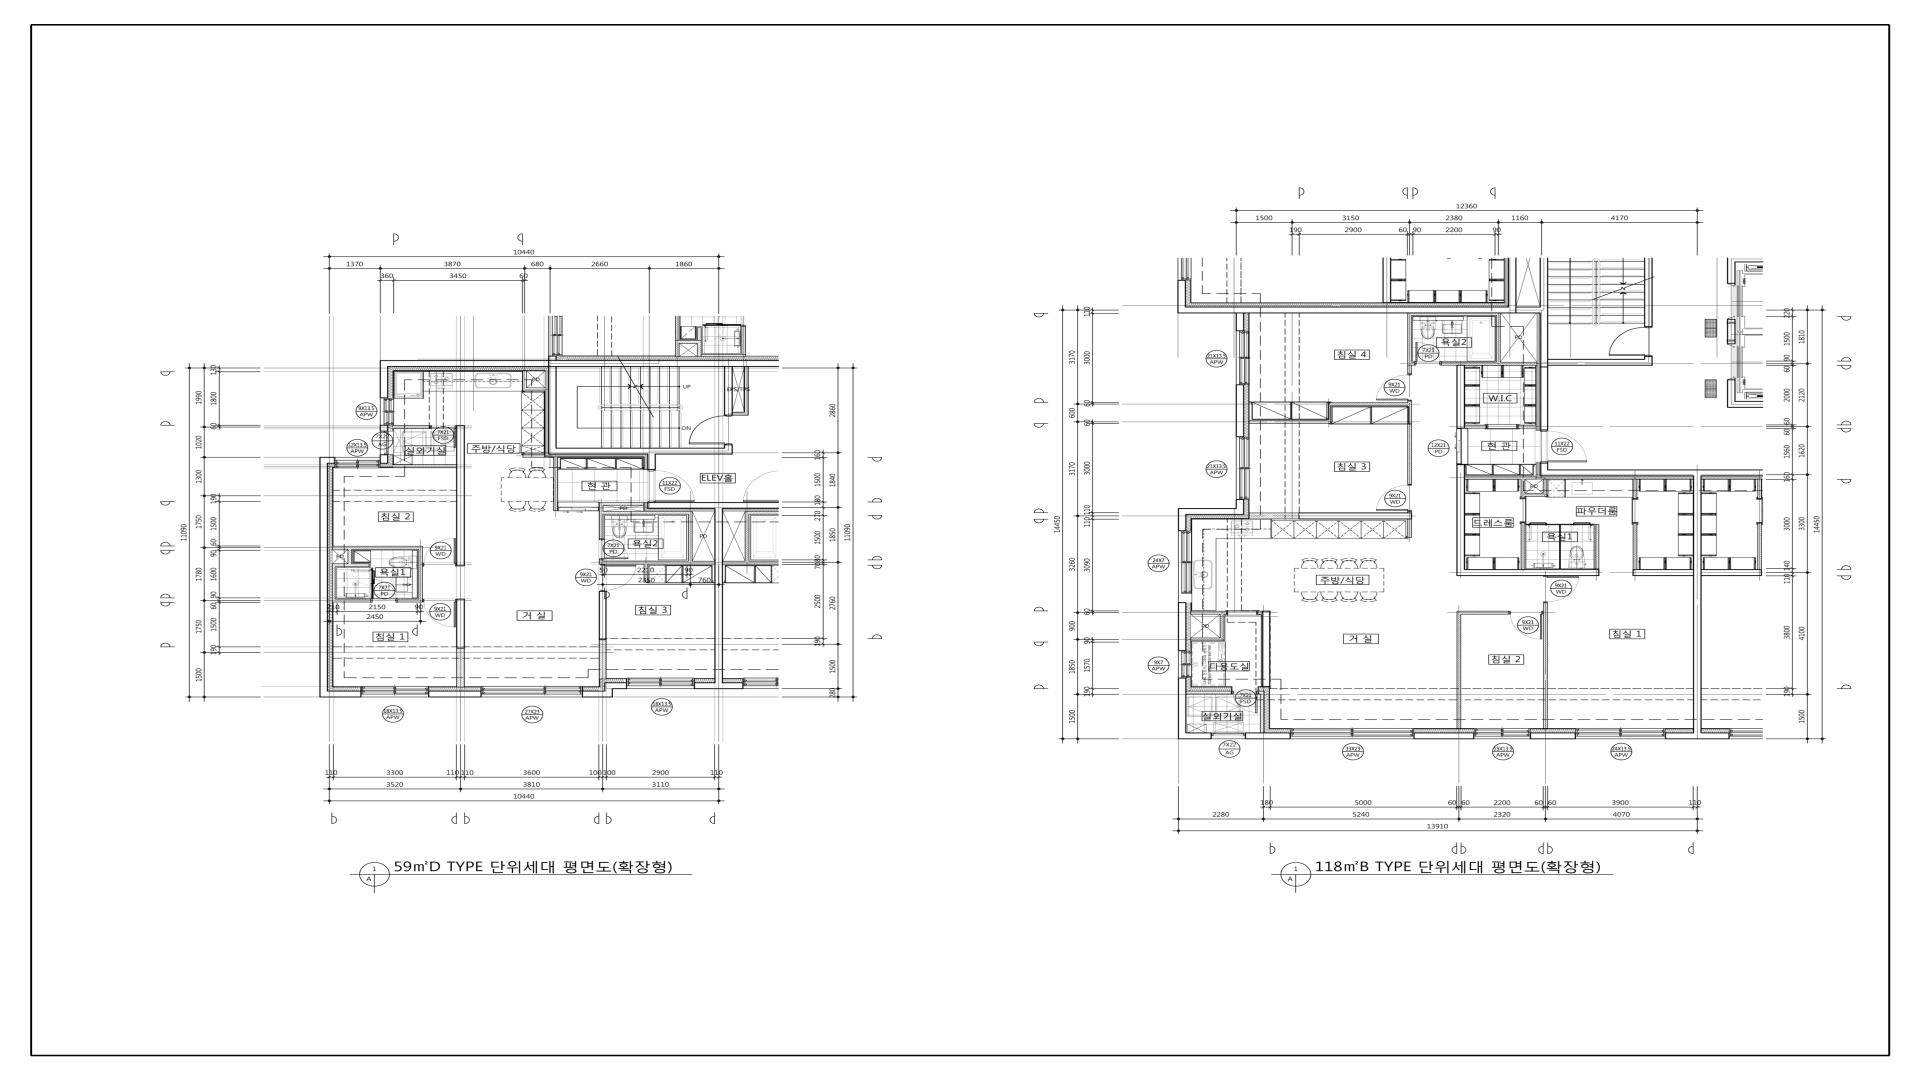door: (648, 470, 695, 502), (1546, 431, 1587, 462), (689, 416, 732, 445), (1608, 327, 1649, 357), (599, 564, 636, 592), (422, 538, 456, 566), (423, 599, 456, 627), (1375, 485, 1410, 511), (1376, 374, 1410, 400), (1545, 577, 1580, 601), (1510, 613, 1542, 639), (371, 579, 398, 603), (599, 538, 628, 560), (430, 425, 456, 448), (1415, 342, 1440, 364), (1232, 693, 1257, 714), (1529, 522, 1549, 542), (1571, 523, 1591, 542), (1456, 428, 1462, 464), (558, 507, 598, 511), (1486, 424, 1518, 429), (1227, 610, 1258, 615), (1632, 499, 1638, 523), (1520, 498, 1526, 522)
wall: (1665, 476, 1702, 739), (1540, 463, 1763, 476), (1178, 499, 1244, 531), (319, 463, 328, 691), (1177, 307, 1516, 313), (1178, 678, 1211, 739), (548, 444, 733, 454), (548, 360, 779, 367), (714, 509, 723, 682), (456, 425, 465, 566), (380, 360, 548, 367), (1548, 356, 1653, 366), (1456, 569, 1600, 576), (1727, 380, 1763, 408), (1727, 258, 1764, 284), (647, 502, 779, 509), (1540, 258, 1548, 367), (1456, 464, 1464, 570), (548, 367, 557, 448), (1262, 611, 1271, 687), (1299, 513, 1412, 519), (1644, 257, 1653, 327), (1543, 602, 1548, 728), (1456, 611, 1461, 728), (1456, 366, 1465, 428), (1540, 367, 1548, 430), (599, 560, 715, 564), (456, 599, 465, 649), (724, 367, 733, 415), (1632, 569, 1693, 576), (1236, 384, 1244, 437), (1407, 401, 1412, 485), (1407, 316, 1415, 366), (599, 591, 607, 640), (1178, 602, 1186, 651), (1441, 362, 1537, 366), (1414, 733, 1474, 739), (456, 648, 465, 688), (603, 511, 692, 515), (1249, 512, 1299, 519), (332, 546, 419, 550), (1327, 402, 1407, 406), (429, 691, 481, 697), (1249, 420, 1326, 424), (1495, 313, 1501, 362), (599, 640, 606, 679), (1530, 733, 1575, 739), (1245, 733, 1290, 739), (553, 457, 558, 511), (1407, 313, 1495, 316), (1258, 691, 1264, 733), (319, 691, 361, 697), (393, 464, 456, 468), (380, 367, 388, 398), (1595, 524, 1600, 569), (744, 367, 749, 412), (1727, 319, 1736, 344), (1465, 476, 1537, 479), (419, 546, 423, 599), (694, 682, 723, 689), (1633, 523, 1637, 570), (1521, 522, 1525, 569), (582, 691, 613, 697), (688, 515, 692, 561), (604, 683, 626, 691), (603, 502, 644, 506), (1235, 313, 1244, 331), (392, 425, 430, 429), (599, 502, 603, 539), (1461, 611, 1509, 614), (647, 454, 656, 470), (1516, 307, 1540, 313), (1186, 691, 1232, 694), (332, 599, 371, 602), (332, 564, 369, 567), (1190, 611, 1227, 614), (1220, 614, 1224, 641), (332, 567, 335, 599), (319, 457, 335, 463), (1407, 519, 1412, 538), (522, 388, 545, 392), (1190, 638, 1220, 641), (1326, 406, 1331, 424), (1525, 493, 1547, 497), (1559, 525, 1561, 569), (523, 454, 545, 458), (522, 371, 527, 388), (1633, 479, 1637, 499), (397, 599, 423, 602), (1521, 479, 1525, 498), (644, 564, 648, 582), (380, 455, 388, 464), (1465, 425, 1486, 428), (1543, 479, 1547, 493), (348, 550, 352, 564), (1518, 425, 1536, 428), (733, 412, 749, 415), (380, 425, 388, 431), (1407, 365, 1412, 374), (1549, 524, 1571, 525), (1258, 611, 1262, 614)
window: (1290, 728, 1414, 739), (481, 686, 582, 697), (1178, 531, 1192, 602), (1575, 728, 1665, 739), (1236, 437, 1250, 499), (1236, 331, 1250, 385), (361, 686, 428, 697), (627, 678, 694, 689), (1474, 728, 1530, 739), (335, 457, 380, 468), (1178, 651, 1192, 678), (380, 398, 394, 425), (380, 431, 393, 455), (1211, 733, 1245, 739)
